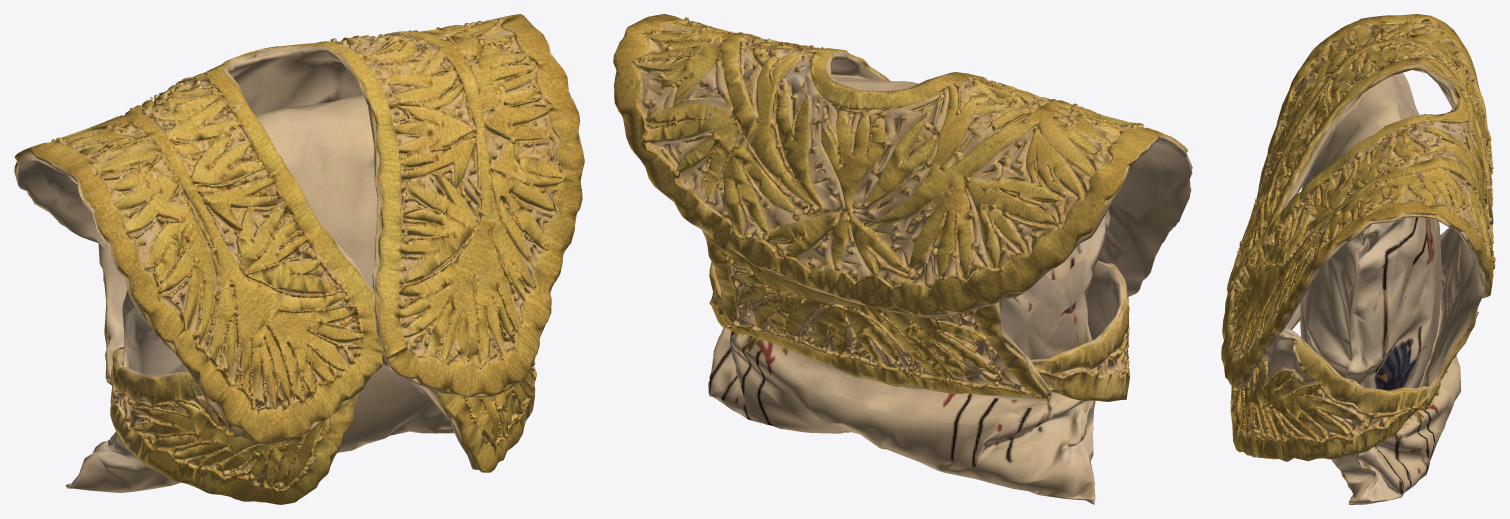
The model's file is jelek.glb.
3 renders of one model, left to right at view 1: azimuth 30°, elevation 25°; view 2: azimuth 150°, elevation 25°; view 3: azimuth 270°, elevation 25°, orthographic. The views are drawn at different scales.
Size of the model in its own units: 1.9 by 1.4 by 1.04.
Materials: 1 (1 with a texture image).
